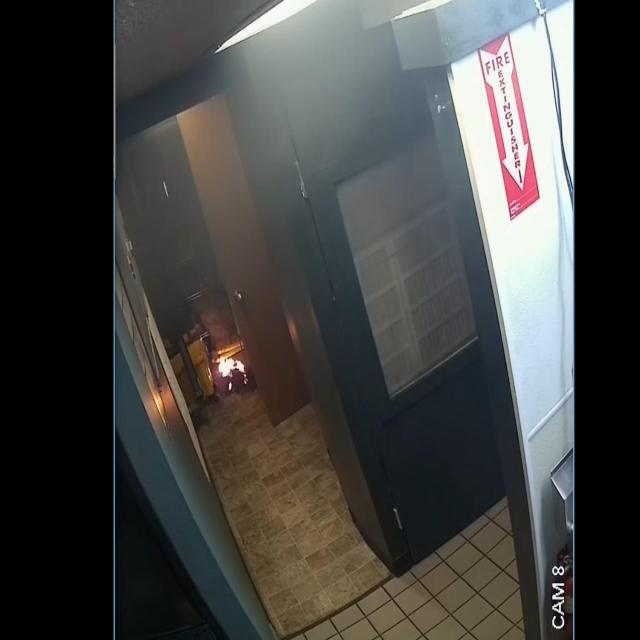fire: (218, 354, 245, 377)
